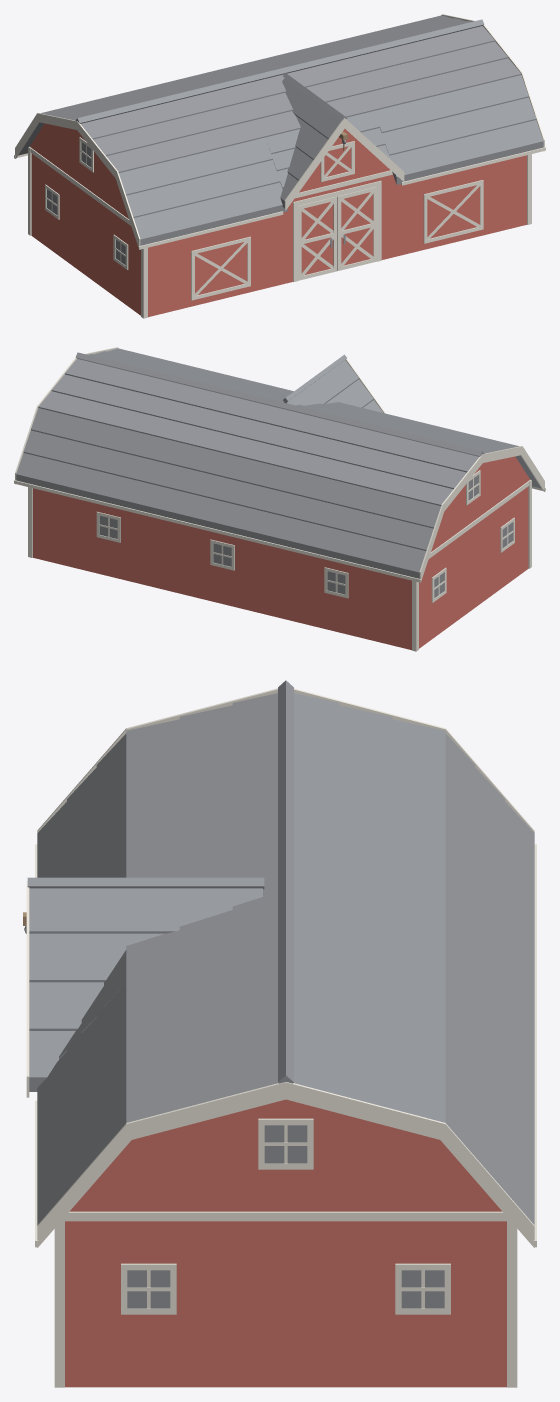
File: barn.glb
3 views of the same model, one above another, from view 1: azimuth 30°, elevation 25°; view 2: azimuth 150°, elevation 25°; view 3: azimuth 270°, elevation 25° (orthographic). The views are drawn at different scales.
Parts seen in each view (by area): view 1: roof_main_R, roof_main_L, front_L, front_R, roof_main_M, side_R_wall, gable_R, crossgable_roof_R, ridge_cap, leaf_L, leaf_R, rake_R (+14 smaller); view 2: back_wall, roof_main_R, roof_main_L, roof_main_M, side_R_wall, gable_R, ridge_cap, crossgable_roof_R, fascia_back, rake_R, band_R, corner_BR (+2 smaller); view 3: roof_main_L, side_L_wall, roof_main_R, roof_main_M, gable_L, crossgable_roof_L, rake_L, ridge_cap, band_L, crossgable_cap, rake_R, corner_FL (+6 smaller).
Part boxes in pixels (x1,y1,x2,y2): roof_main_R: (18, 78, 287, 245); roof_main_L: (295, 15, 543, 184); front_L: (376, 155, 526, 259); front_R: (148, 198, 297, 317); roof_main_M: (186, 51, 390, 188); side_R_wall: (32, 149, 140, 315); gable_R: (30, 123, 128, 218); crossgable_roof_R: (280, 78, 341, 207); ridge_cap: (75, 19, 484, 123); leaf_L: (341, 192, 373, 265); leaf_R: (301, 202, 333, 274); rake_R: (15, 113, 140, 249); back_wall: (33, 488, 411, 650); roof_main_R: (272, 411, 541, 578); roof_main_L: (16, 348, 264, 516); roof_main_M: (163, 384, 373, 542); side_R_wall: (419, 482, 527, 648); gable_R: (431, 456, 529, 551); ridge_cap: (75, 352, 484, 456); crossgable_roof_R: (286, 360, 383, 412); fascia_back: (14, 480, 421, 582); rake_R: (419, 446, 544, 582); band_R: (429, 481, 529, 558); corner_BR: (412, 581, 418, 651); roof_main_L: (37, 943, 534, 1224); side_L_wall: (69, 1211, 502, 1387); roof_main_R: (37, 693, 534, 976); roof_main_M: (59, 837, 534, 1082); gable_L: (70, 1099, 501, 1210); crossgable_roof_L: (29, 888, 262, 1091); rake_L: (37, 1082, 534, 1247); ridge_cap: (278, 680, 293, 1083); band_L: (65, 1211, 506, 1221); crossgable_cap: (27, 877, 264, 889); rake_R: (37, 688, 534, 832); corner_FL: (54, 1217, 64, 1387).
Size of the model in its own units: 16.43 by 6.2 by 8.99.
